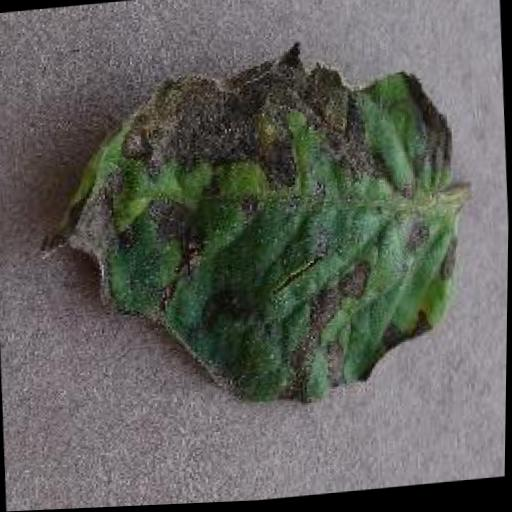Early Blight: (23, 30, 478, 436)
